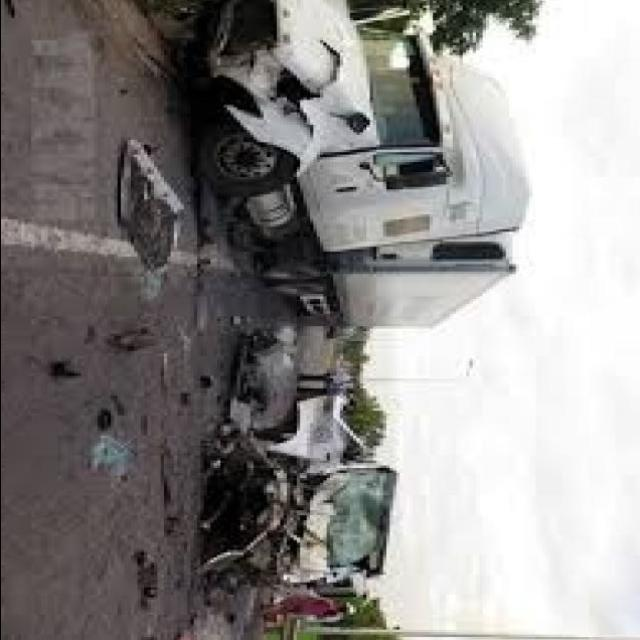accident: (159, 0, 497, 238), (163, 341, 445, 603)
